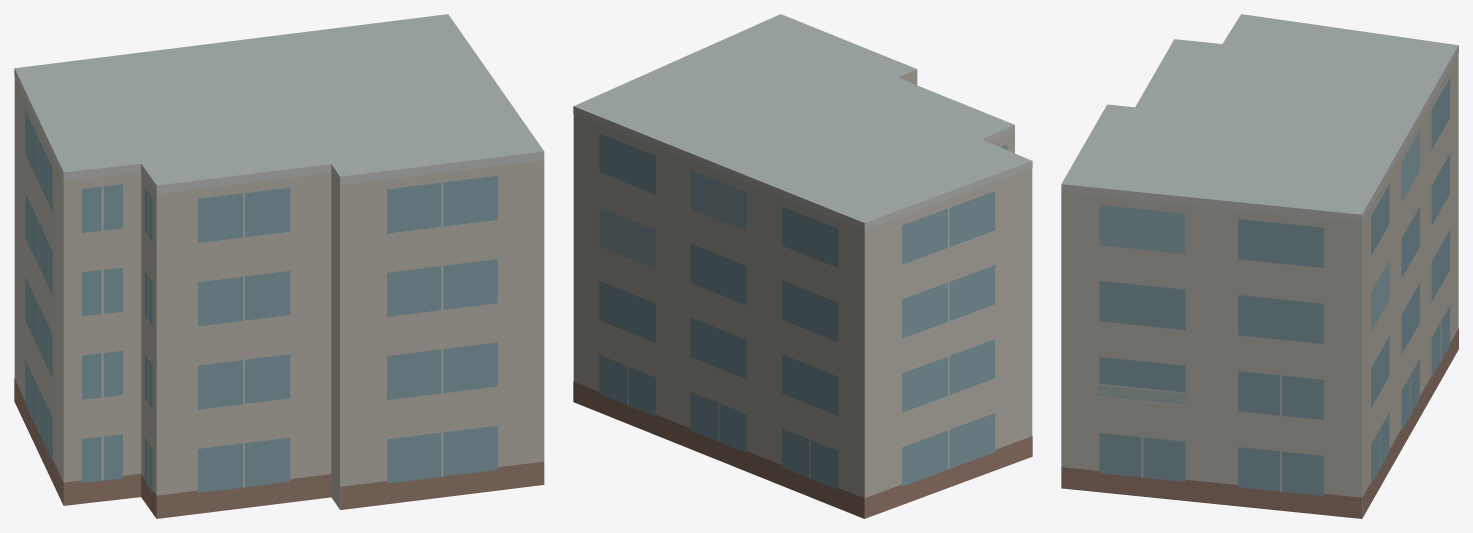
The model's file is survey-upis-32822589.glb.
The picture shows the model from 3 angles, left to right: view 1: azimuth 30°, elevation 25°; view 2: azimuth 150°, elevation 25°; view 3: azimuth 270°, elevation 25°; orthographic projection. The views are drawn at different scales.
Parts seen in each view (by area): view 1: survey-upis-32822589.tmp; view 2: survey-upis-32822589.tmp; view 3: survey-upis-32822589.tmp.
Part boxes in pixels (bbox=[...]): survey-upis-32822589.tmp: bbox=[14, 14, 544, 518]; survey-upis-32822589.tmp: bbox=[573, 14, 1032, 518]; survey-upis-32822589.tmp: bbox=[1061, 14, 1458, 518].
Size of the model in its own units: 13.68 by 9.66 by 11.45.
